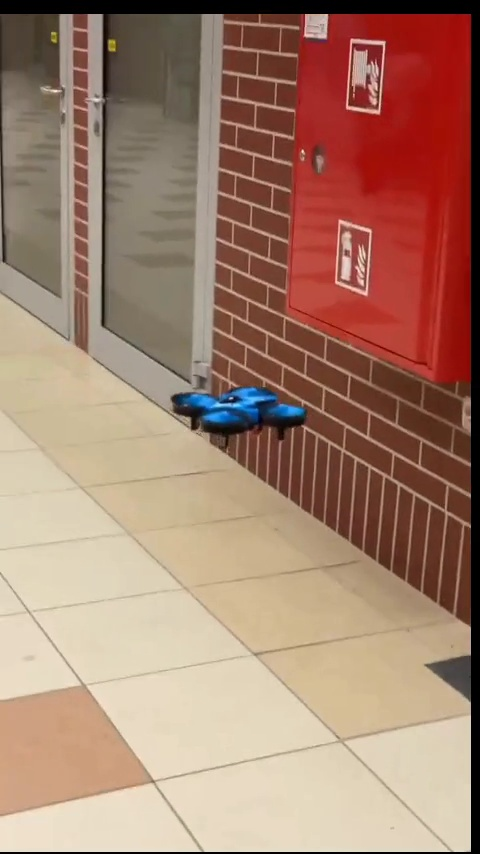drone: (174, 389, 308, 447)
